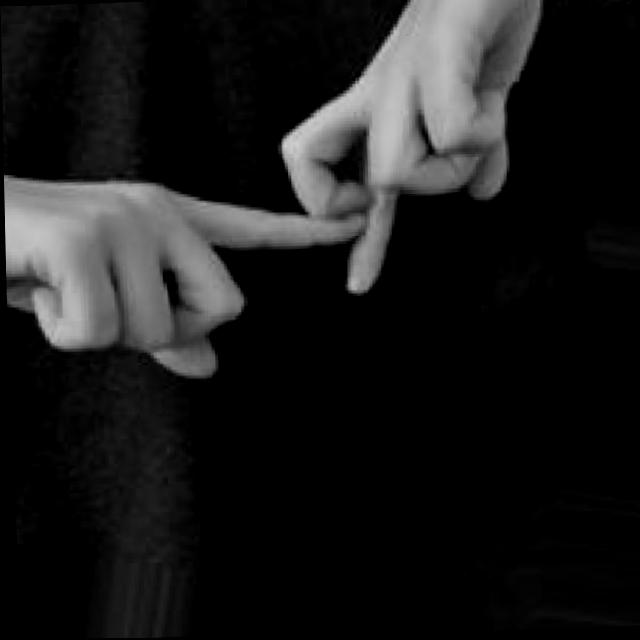R: (0, 0, 564, 393)
